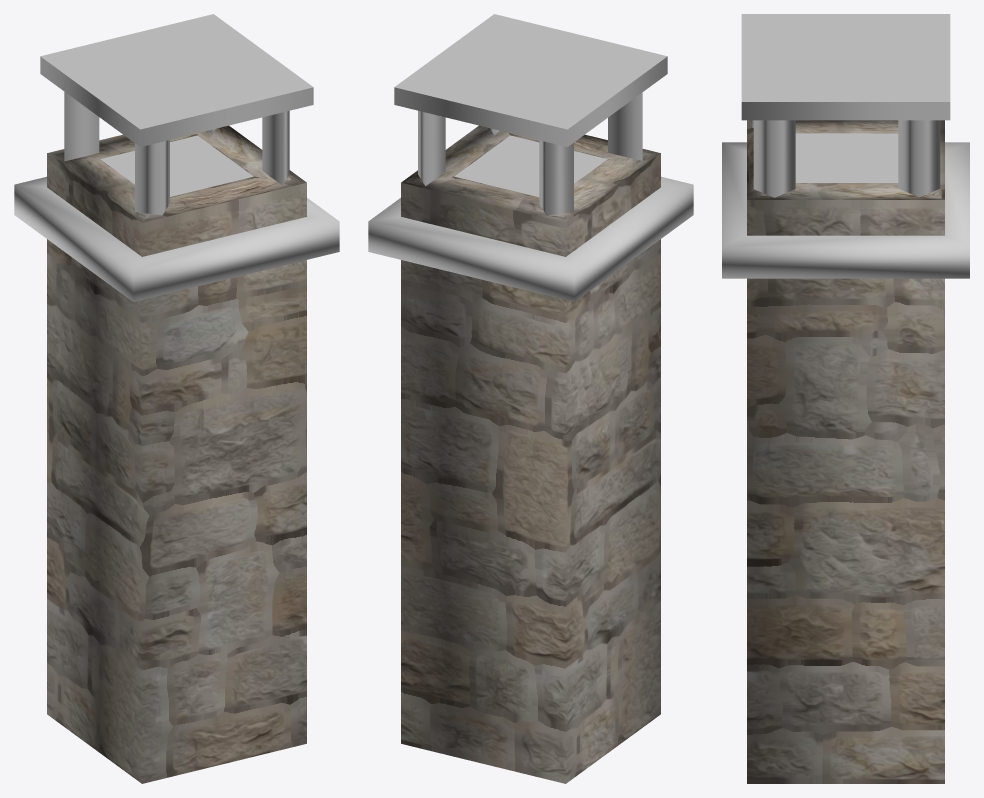
The model's file is Chimney2_1.fbx.
The picture shows the model from 3 angles, left to right: view 1: azimuth 30°, elevation 25°; view 2: azimuth 150°, elevation 25°; view 3: azimuth 270°, elevation 25°; orthographic projection. The views are drawn at different scales.
Parts seen in each view (by area): view 1: Mesh; view 2: Mesh; view 3: Mesh.
Part boxes in pixels (bbox=[...]): Mesh: bbox=[14, 14, 339, 783]; Mesh: bbox=[368, 14, 693, 783]; Mesh: bbox=[722, 14, 969, 783].
Size of the model in its own units: 137 by 418 by 137.
